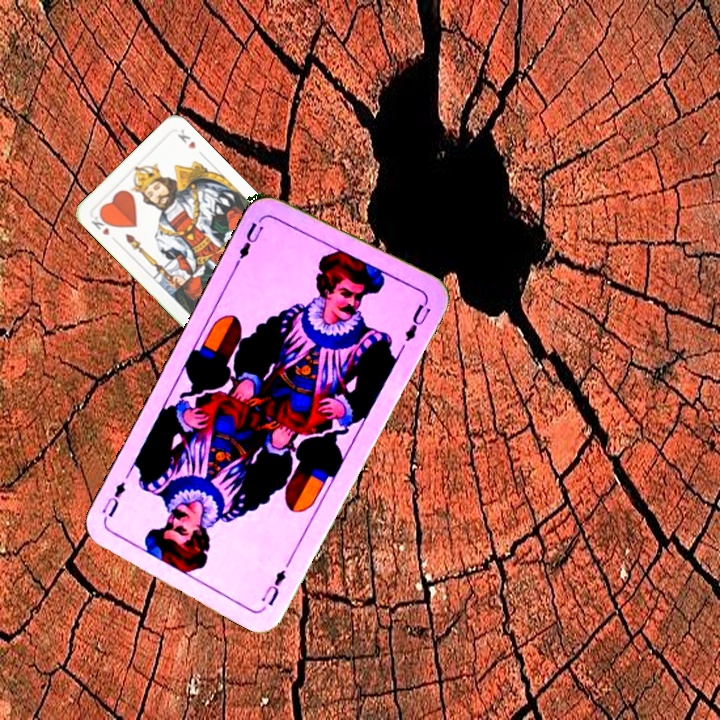EU: (231, 218, 266, 269), (259, 565, 289, 609)
HK: (87, 210, 115, 238)
